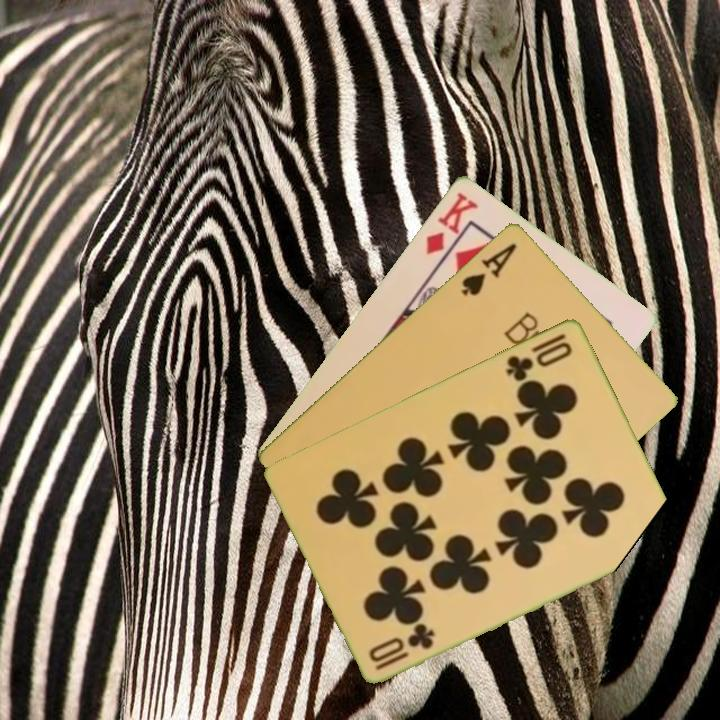10c: (503, 329, 575, 384), (371, 621, 438, 673)
As: (457, 238, 520, 299)
Kd: (422, 188, 482, 258)
